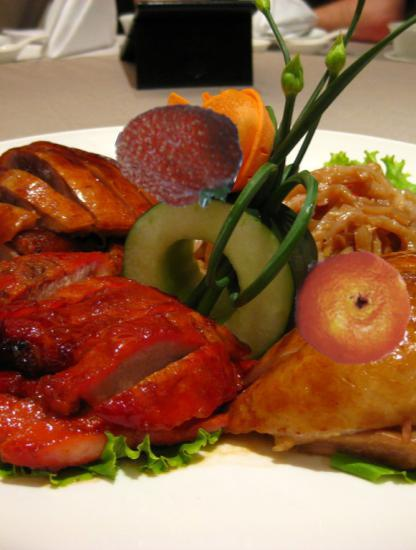Clementine: (290, 246, 412, 368)
Strawberry: (116, 89, 243, 216)
